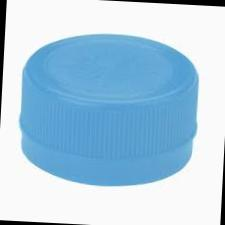Plastik: (16, 32, 200, 186)
